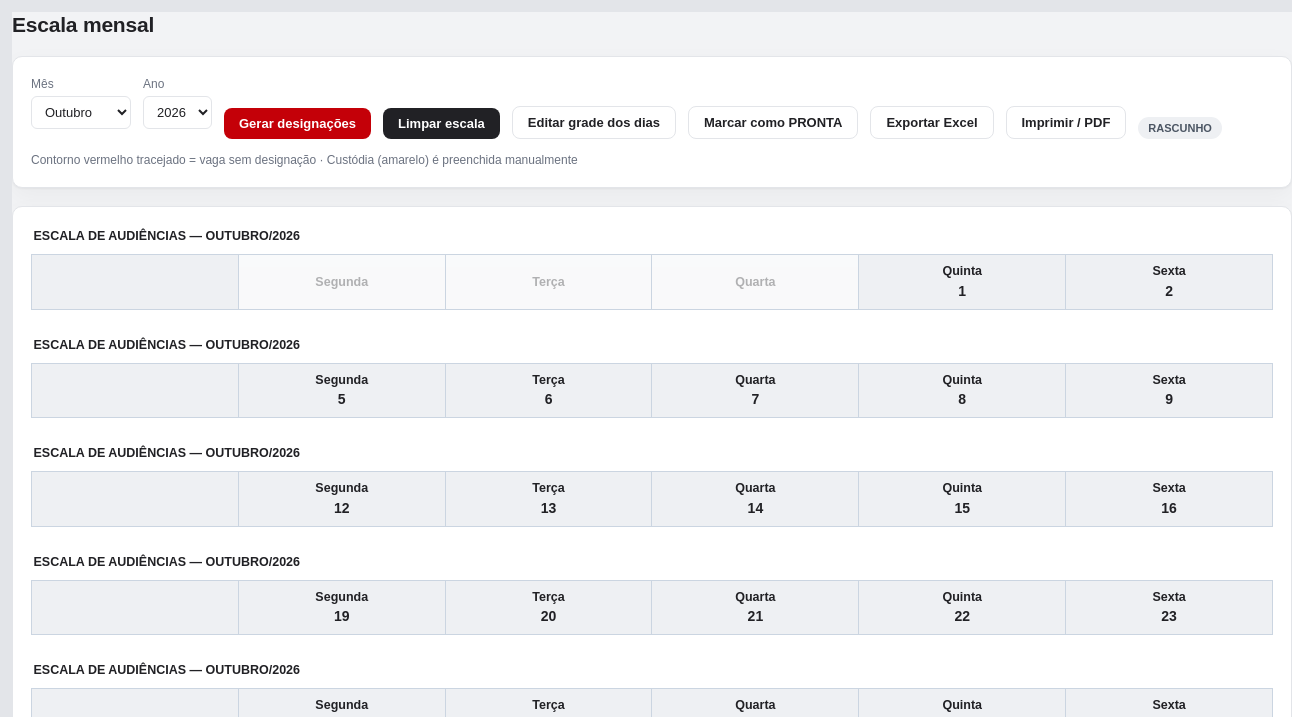
Test: carregamento de Escala › mostra erro e libera Exportar Excel se a requisicao falhar
The image size is (1292, 717).
Click the button "Exportar Excel" at (932, 123), box [870,106,994,139]
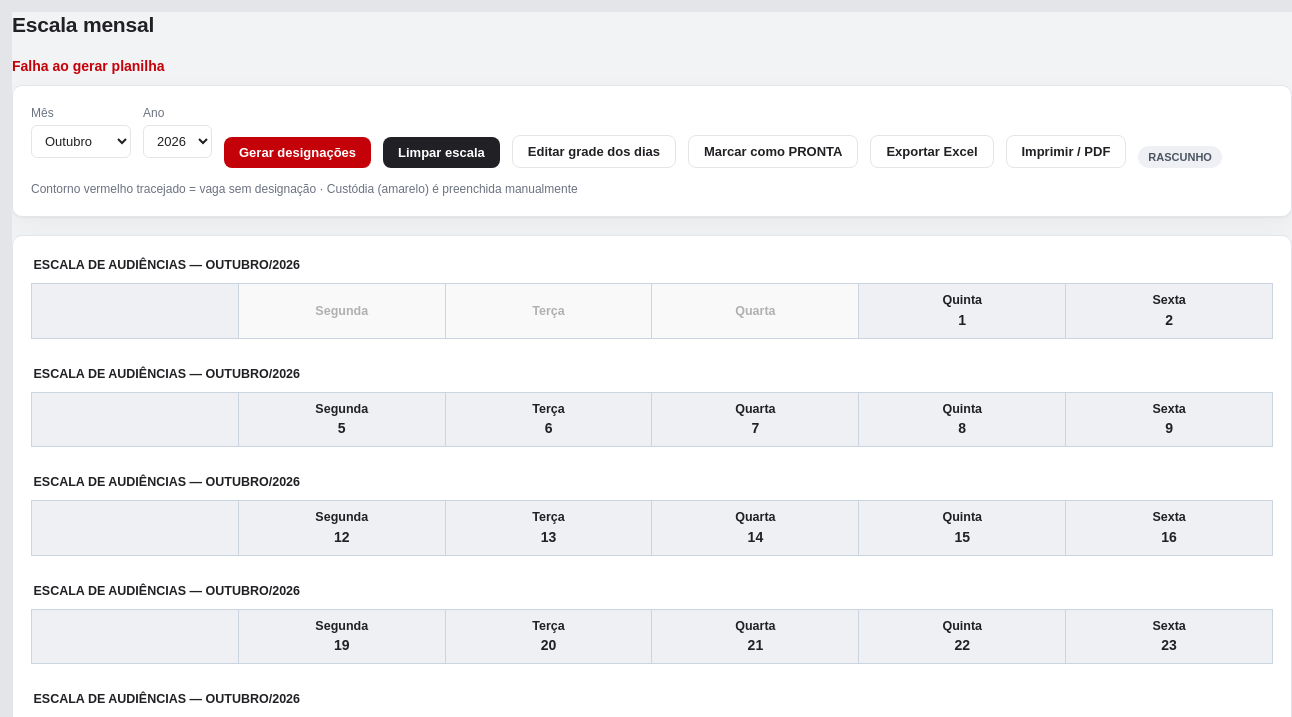
Expected: the button "Exportar Excel" is enabled, [870,135,994,168]
Result: the text "Falha ao gerar planilha" is shown at [12,58,164,74]
